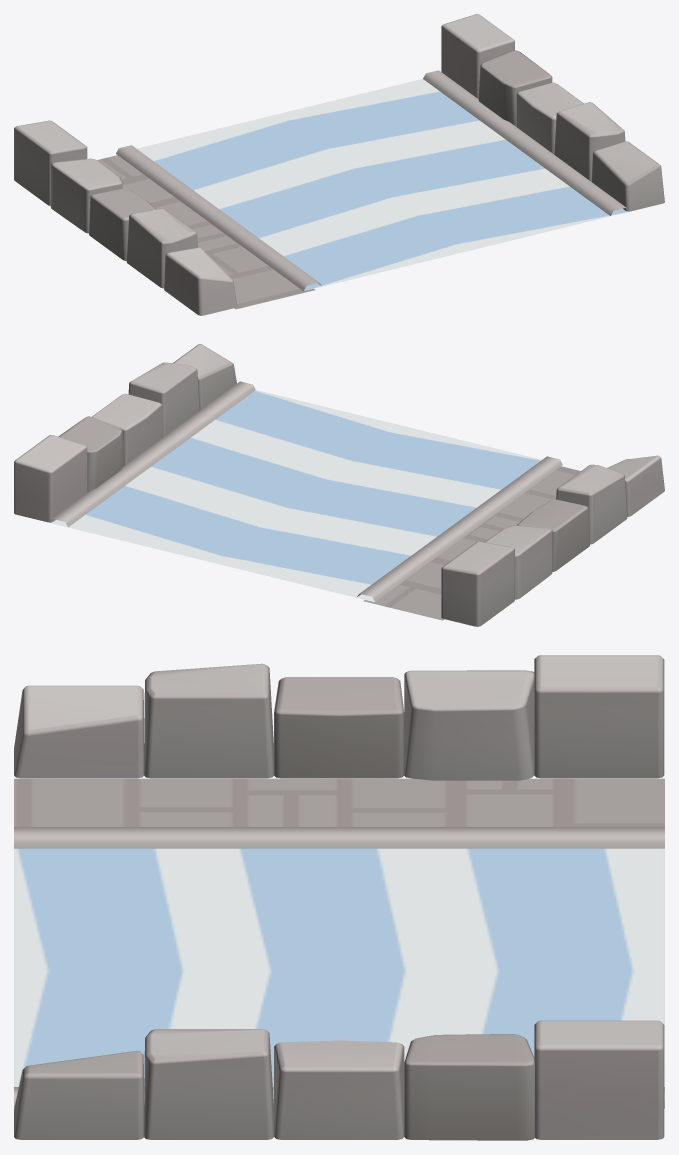
The model's file is rock line short.fbx.
3 views of the same model, one above another, from view 1: azimuth 30°, elevation 25°; view 2: azimuth 150°, elevation 25°; view 3: azimuth 270°, elevation 25° (orthographic). The views are drawn at different scales.
Visible parts, largest first — view 1: rock line; view 2: rock line; view 3: rock line.
Boxes of the visible parts, x1,y1,x2,y2 form: rock line: (14, 14, 664, 315); rock line: (14, 344, 664, 626); rock line: (14, 655, 664, 1140).
Size of the model in its own units: 720 by 80.66 by 500.
